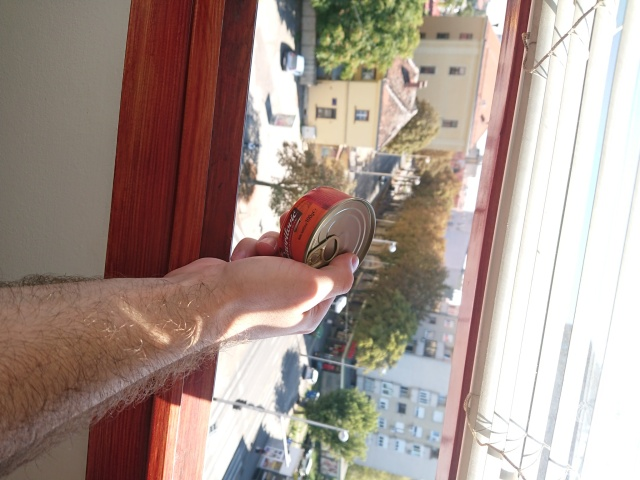Gavrilovic Pork Liver Pate 100g: (277, 184, 377, 284)
